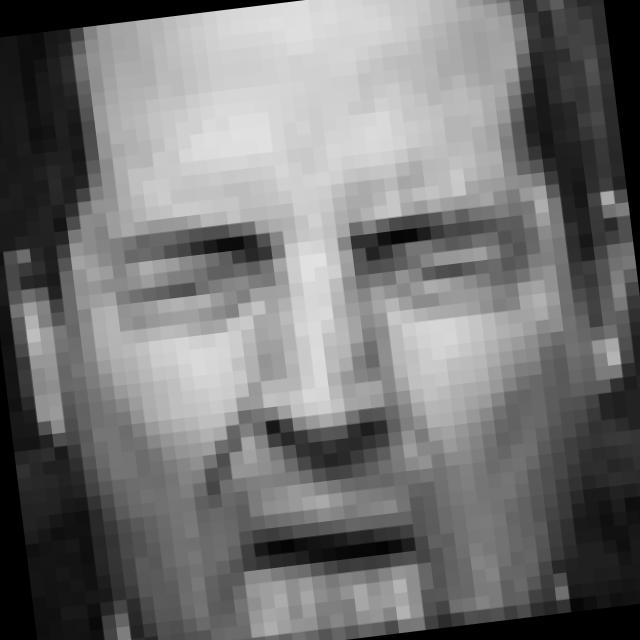disgust: (95, 174, 572, 640)
